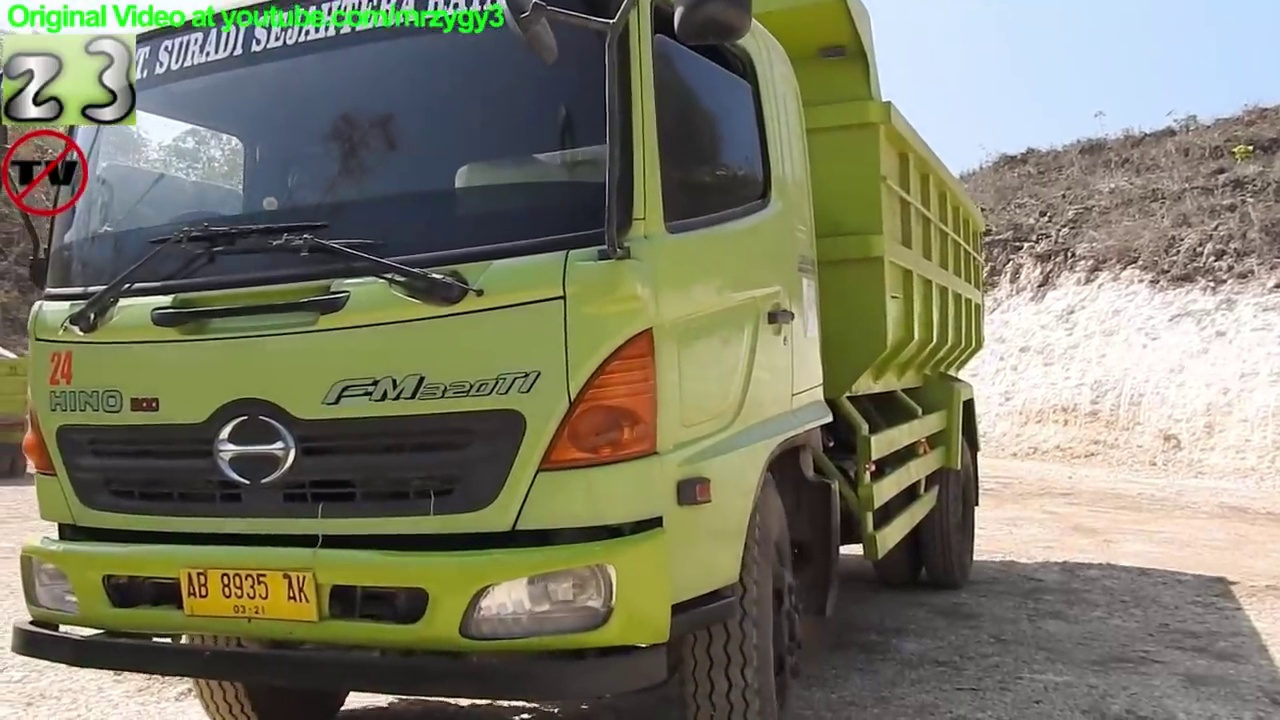truck: (1, 1, 1000, 720), (1, 337, 43, 485)
